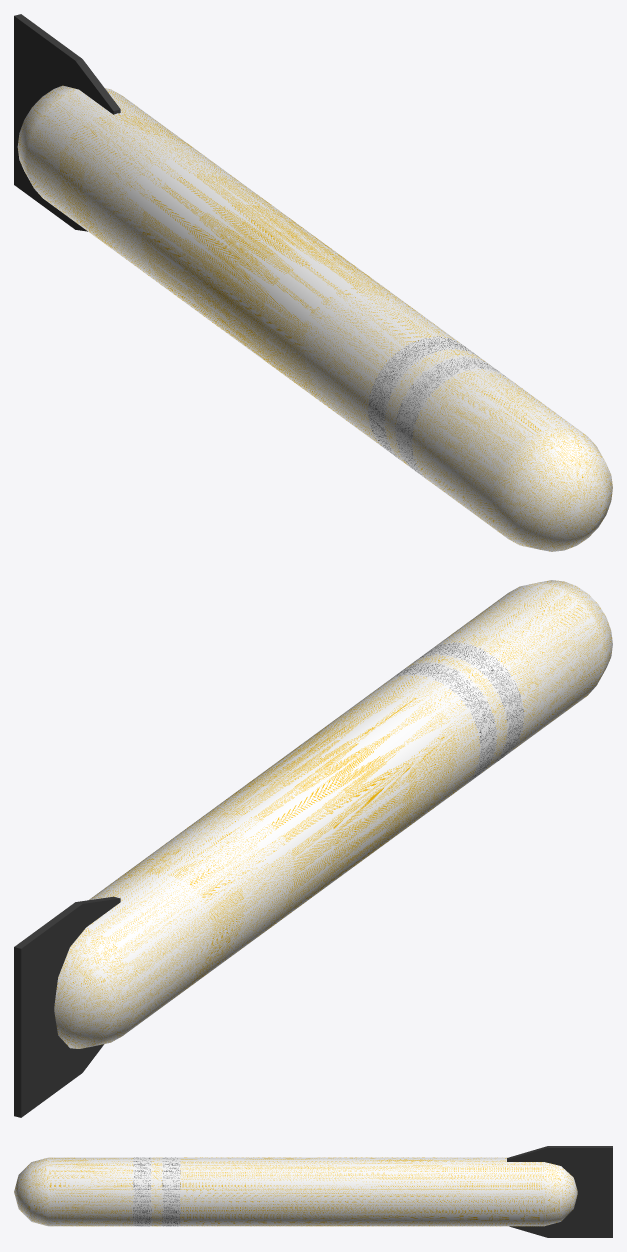
3 views of the same model, one above another, from view 1: azimuth 30°, elevation 25°; view 2: azimuth 150°, elevation 25°; view 3: azimuth 270°, elevation 25° (orthographic). The views are drawn at different scales.
Visible parts, largest first — view 1: AMV (×5), Fin; view 2: AMV (×5), Fin; view 3: AMV (×5), Fin.
Part boxes in pixels (box(x1,y1,x2,y2)): AMV (×5): box(17, 85, 612, 551); Fin: box(14, 14, 120, 231); AMV (×5): box(54, 580, 612, 1048); Fin: box(14, 896, 120, 1117); AMV (×5): box(14, 1157, 577, 1226); Fin: box(507, 1146, 612, 1237).
Bounding box in the file's own units: 24.41 × 211 × 35.04.
